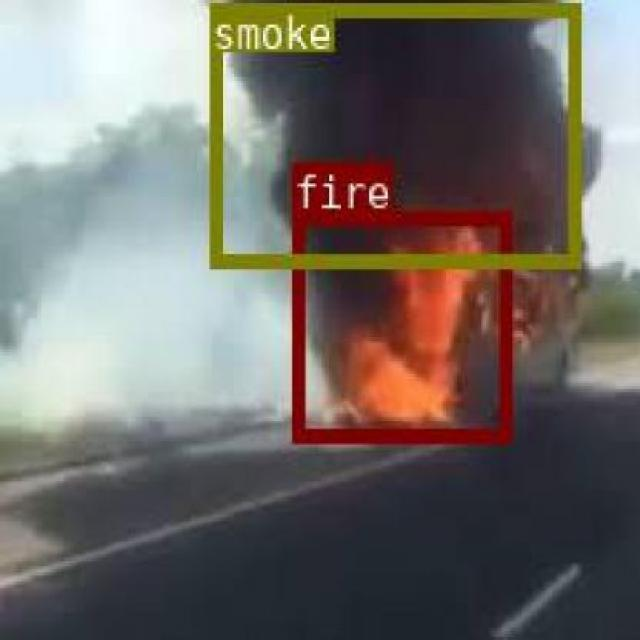Smoke: (207, 0, 578, 200)
